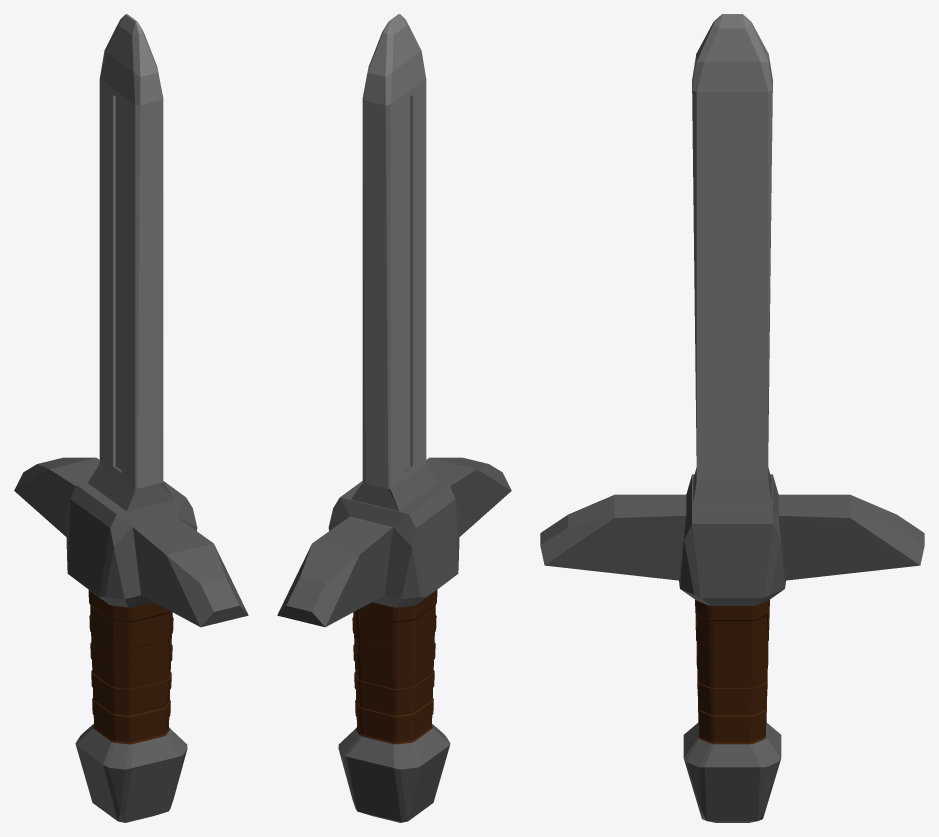
File: sword.fbx
The picture shows the model from 3 angles, left to right: view 1: azimuth 30°, elevation 25°; view 2: azimuth 150°, elevation 25°; view 3: azimuth 270°, elevation 25°; orthographic projection.
Parts seen in each view (by area): view 1: Cube; view 2: Cube; view 3: Cube.
Boxes of the visible parts, box(x1,y1,x2,y2) form: Cube: box(14, 14, 248, 822); Cube: box(277, 14, 511, 822); Cube: box(540, 14, 924, 822).
Bounding box in the file's own units: 49.52 × 393 × 171.
